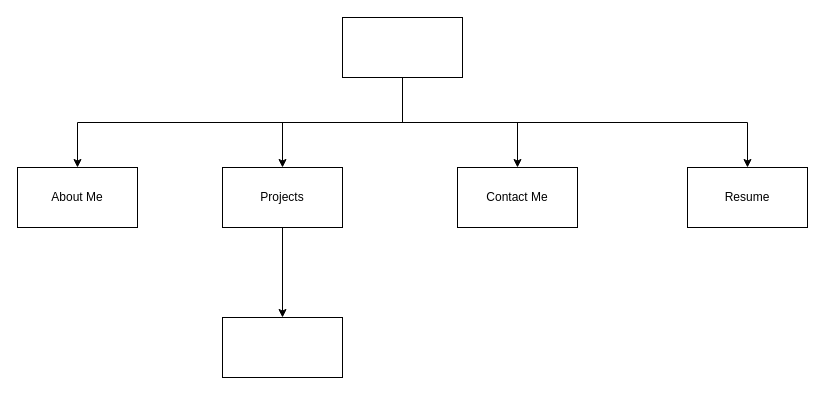
The diagram is 825 pixels wide and 395 high, and some of its shapes have lost their labels. Each missing label, with the centre of its shape:
"Cool Website 01" belongs at pixel 282 347.
"Home" belongs at pixel 402 47.
